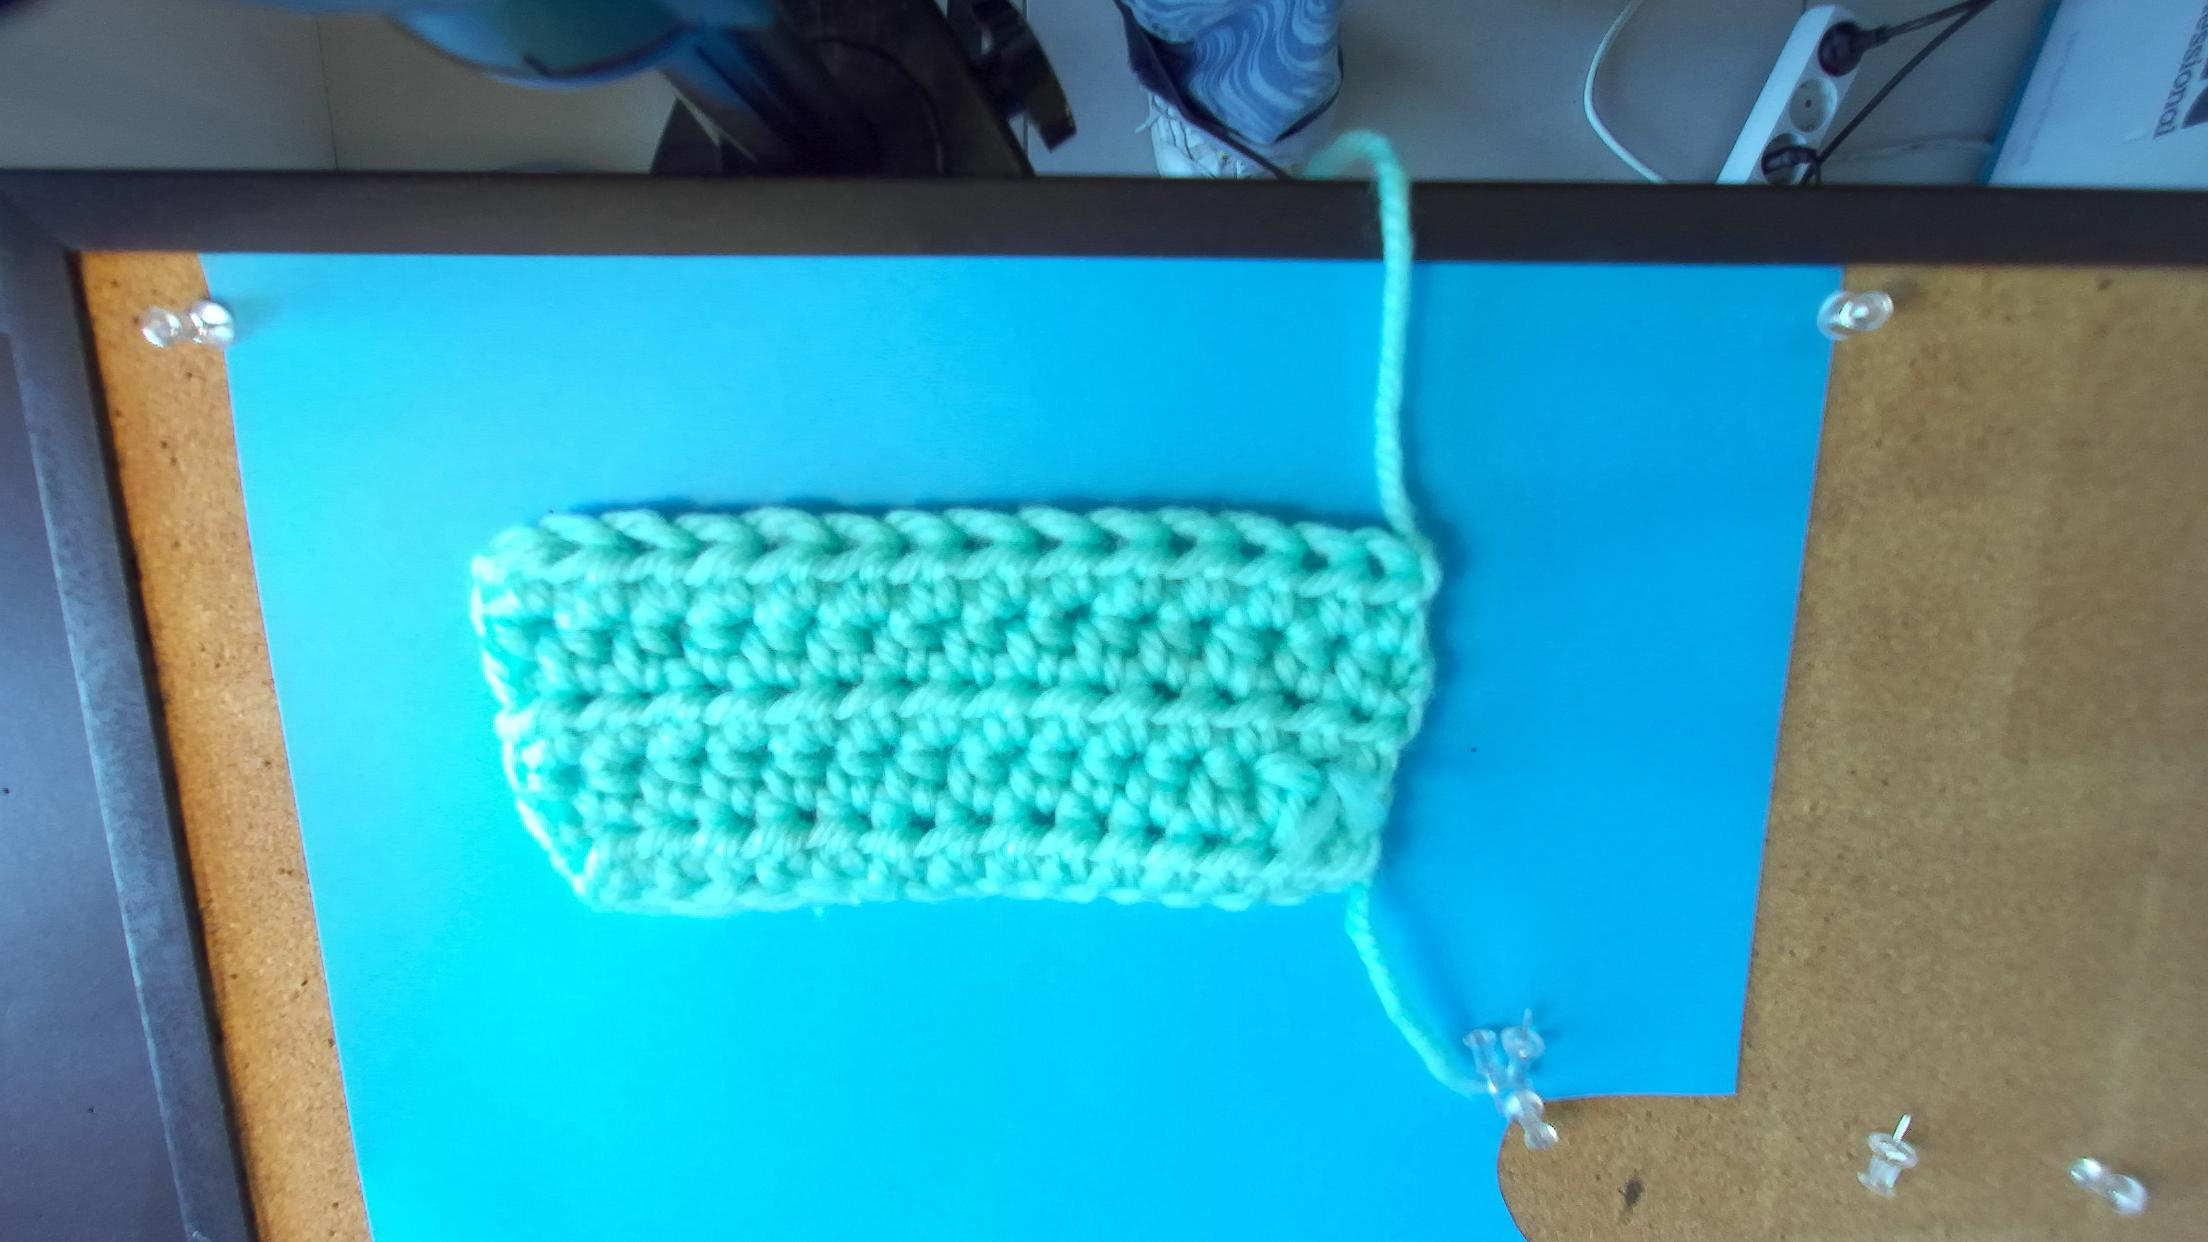hole: (543, 535, 587, 567), (616, 529, 660, 560), (678, 532, 719, 558), (749, 528, 786, 555), (1298, 546, 1333, 572), (1169, 529, 1198, 560), (1031, 531, 1065, 557), (1236, 535, 1266, 563), (1101, 531, 1128, 557), (958, 537, 996, 555), (823, 535, 857, 555), (1365, 554, 1386, 581), (896, 535, 917, 560)
swatch: (463, 503, 1445, 921)
